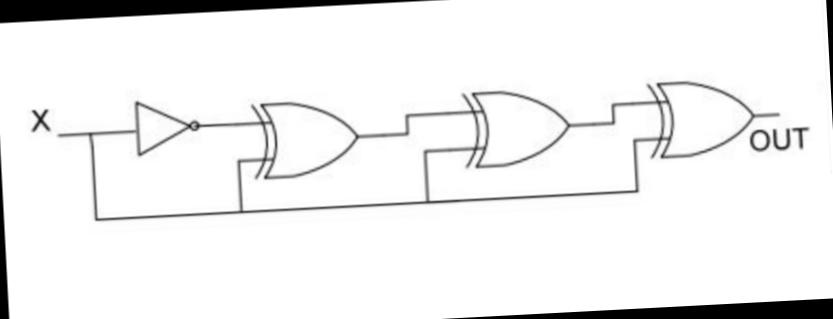not: (126, 91, 204, 161)
xor: (247, 85, 365, 190), (452, 79, 574, 176), (642, 65, 760, 163)
